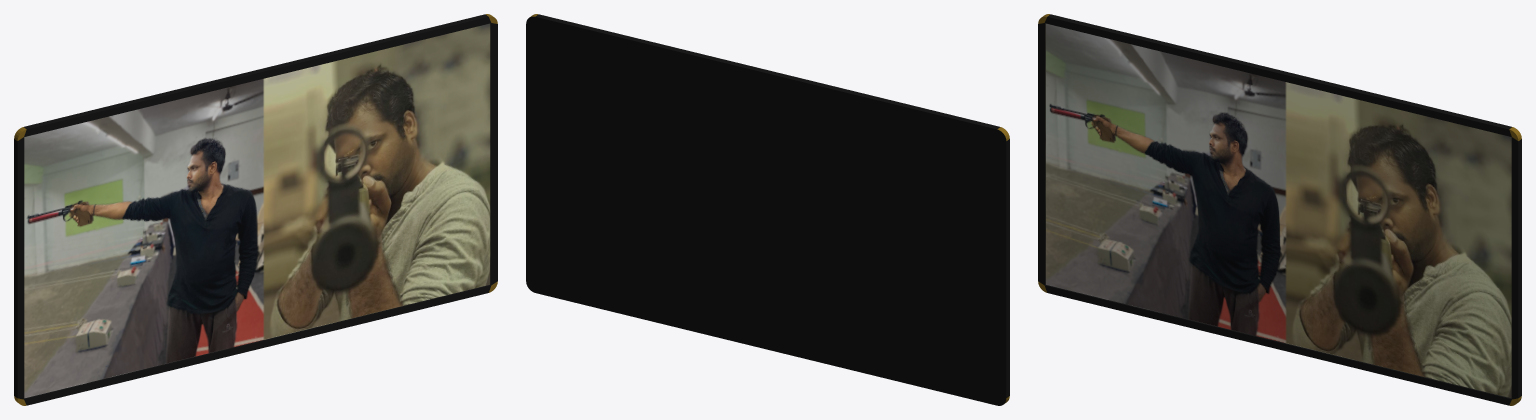
Rendered from Photoframe.glb.
3 renders of one model, left to right at view 1: azimuth 30°, elevation 25°; view 2: azimuth 150°, elevation 25°; view 3: azimuth 330°, elevation 25°, orthographic.
Visible parts, largest first — view 1: Cube; view 2: Cube; view 3: Cube.
Part boxes in pixels (<box>): Cube: <box>14,14,497,405</box>; Cube: <box>526,14,1009,405</box>; Cube: <box>1038,14,1521,405</box>.
Size of the model in its own units: 0.5459 by 0.3 by 0.00675.
Materials: 3 (1 with a texture image).
